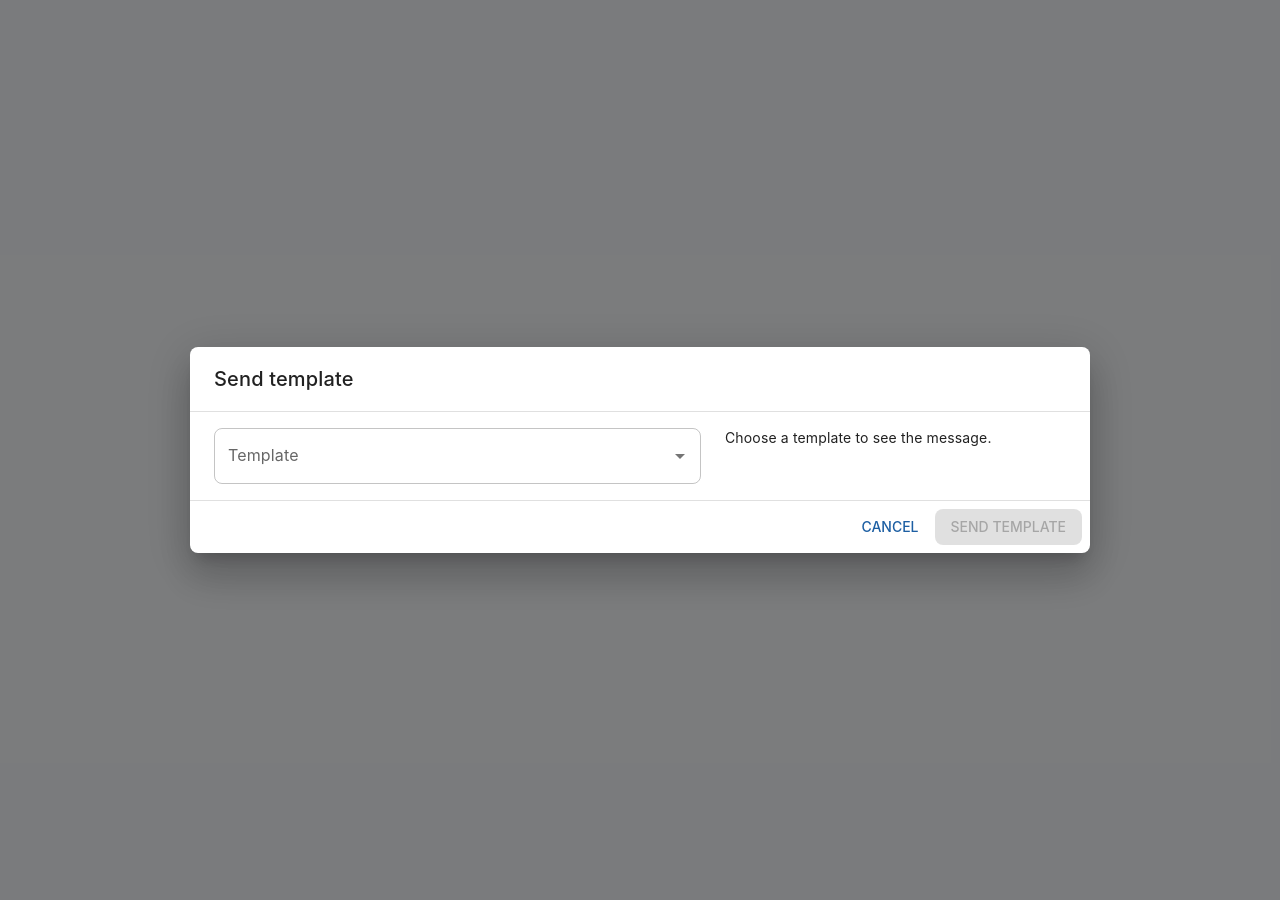
Scenario: Send template dialog › lists approved / flagged templates of this number; sends the exact body per variable source
Click the dropdown labelled "Template".
click(442, 456)  # box [223,437,662,475]
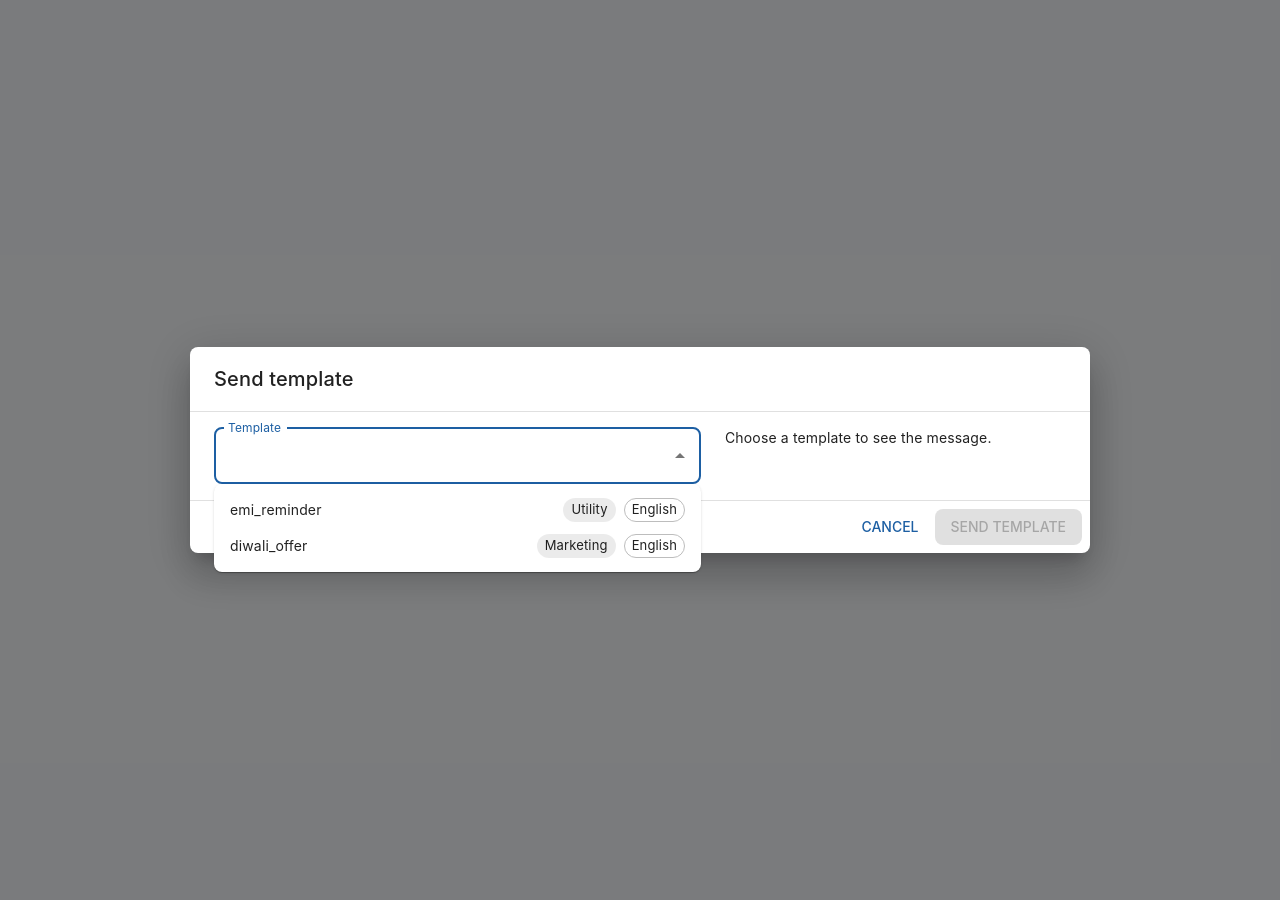
Check: the option "emi_reminder Utility English" is shown
Click the option "emi_reminder Utility English".
click(276, 509)  # box [214,492,701,528]
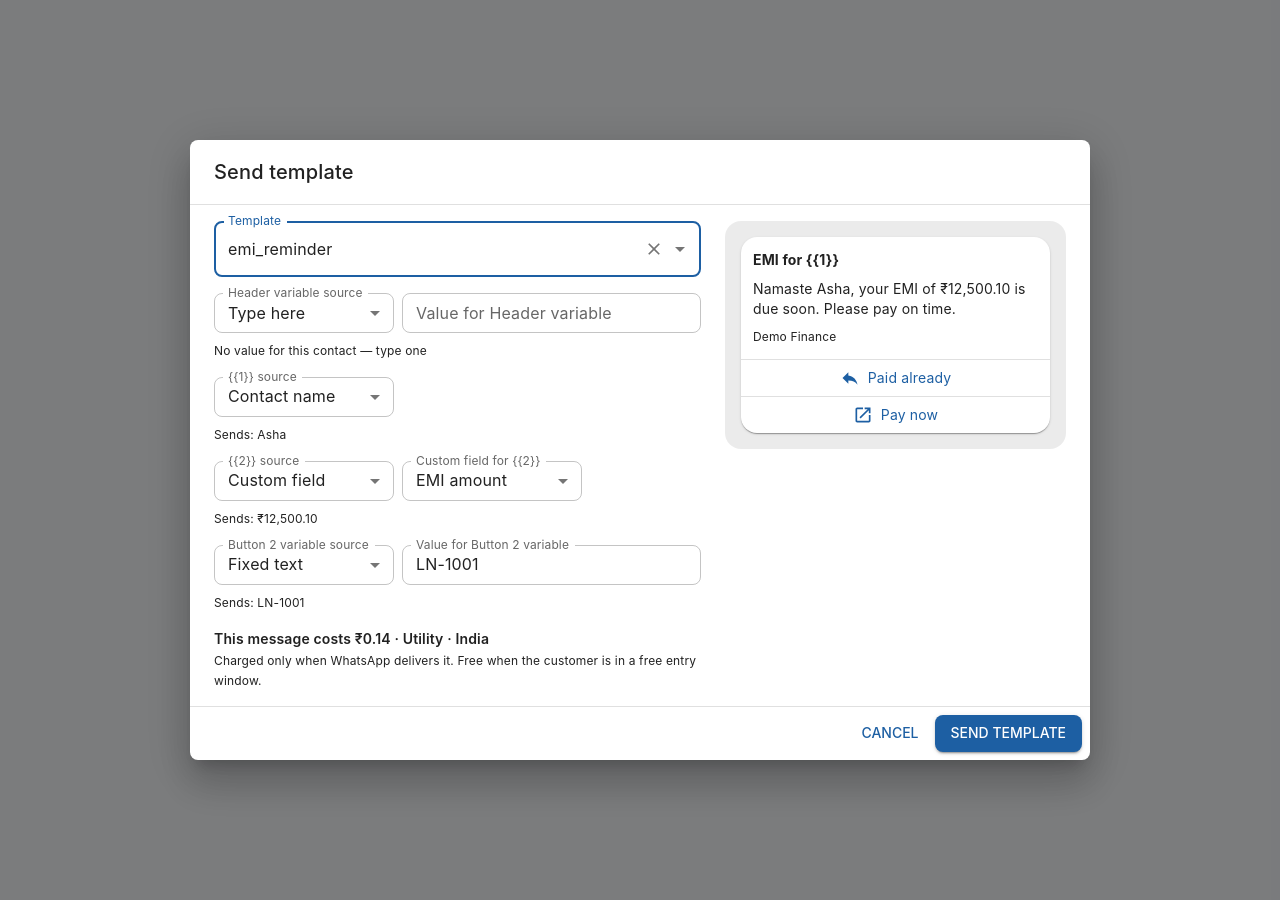
Check: the text "Sends: Asha" is shown, box [214,427,286,442]
Check: the text "Sends: ₹12,500.10" is shown, box [214,511,318,526]
Check: the text "Sends: LN-1001" is shown, box [214,595,305,610]
the header asks → type it
Type "November" into the field labelled "Value for Header variable".
click(552, 313); type("November")  # box [402,293,701,333]
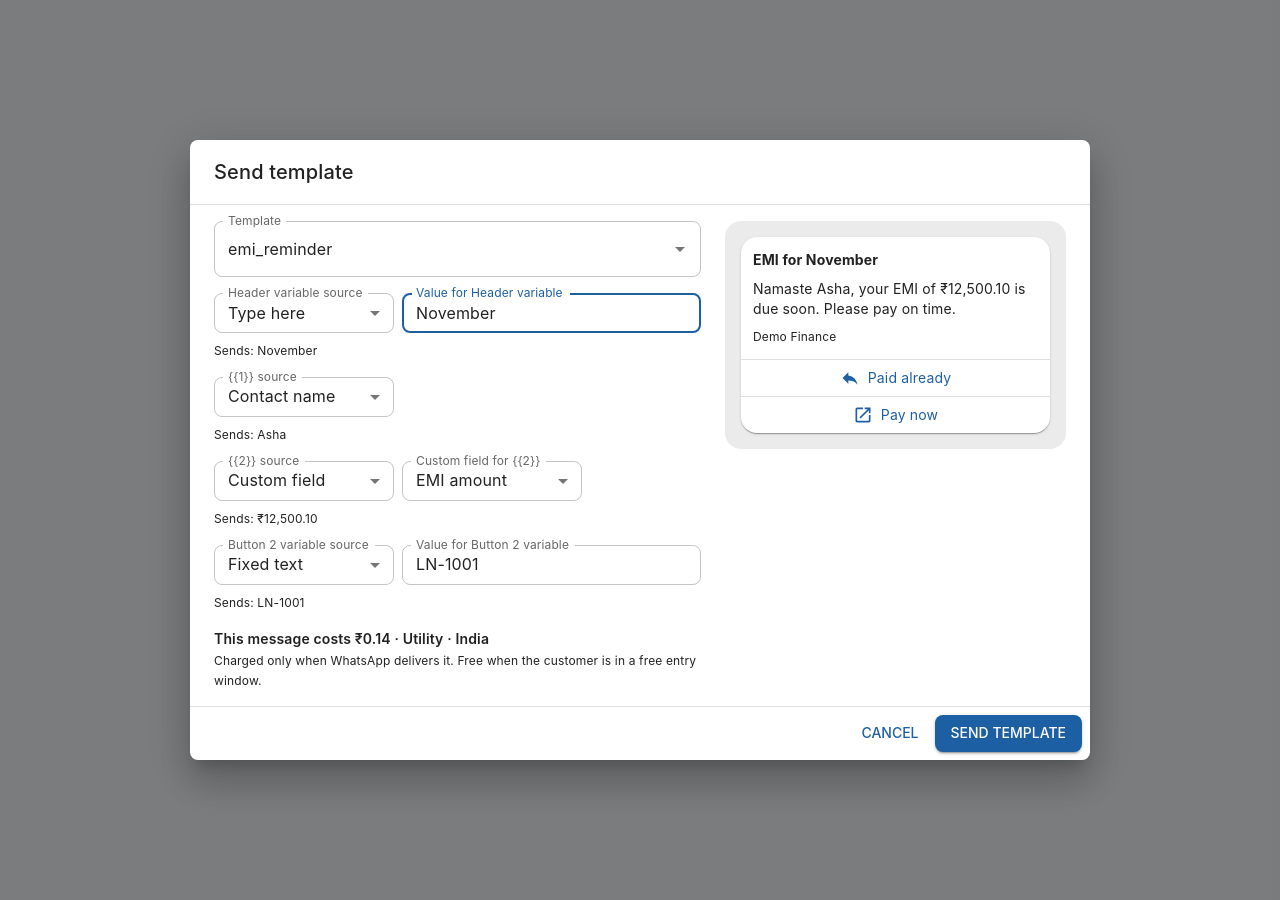
Check: the element named "Message preview" shows "Namaste Asha, your EMI of ₹12,500.10 is due soon.", box [753,280,1030,317]
Check: the element named "Message preview" shows "EMI for November", box [753,251,878,268]
Click the dropdown named "{{1}} source".
click(282, 396)  # box [228,386,336,406]
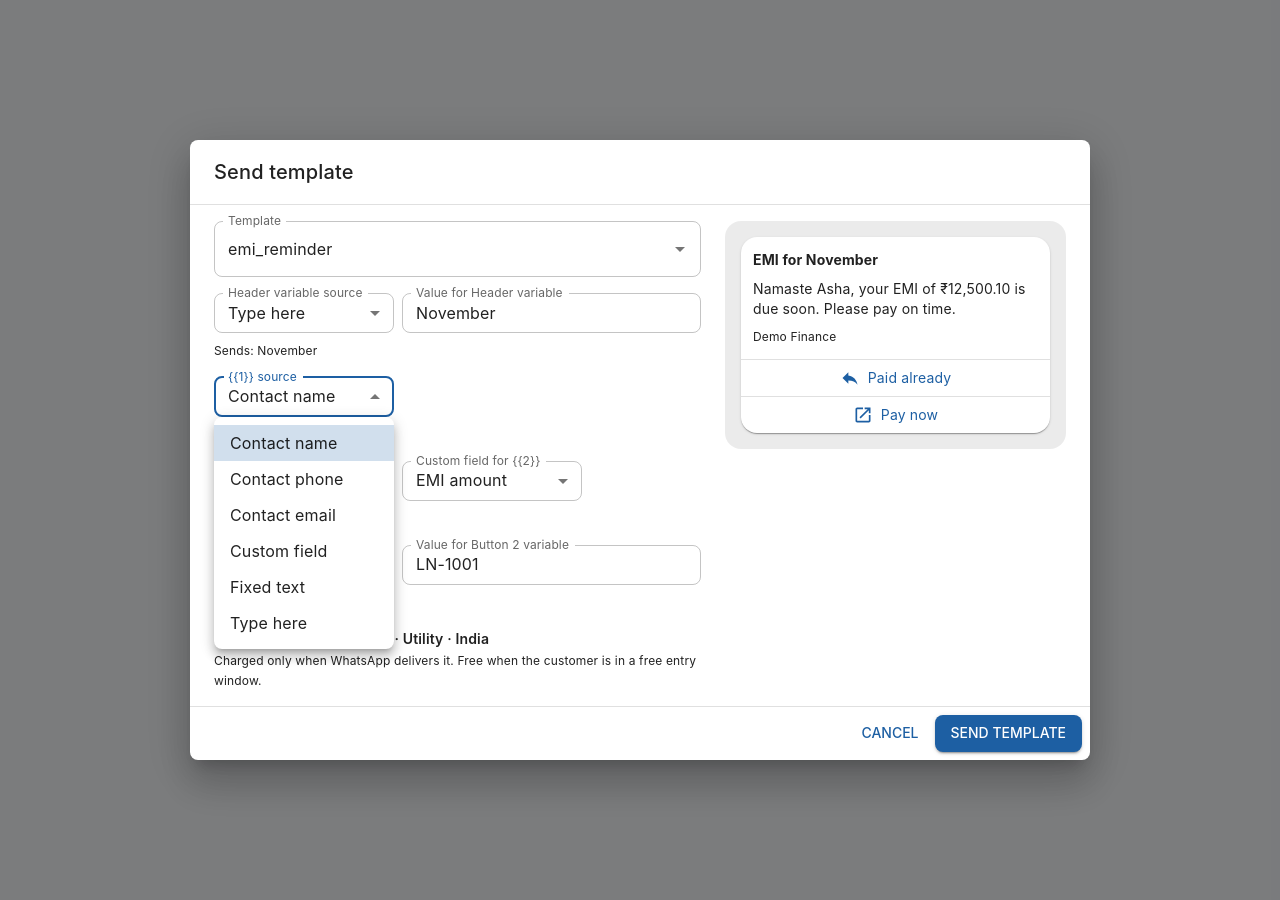
Click the option "Contact phone".
click(287, 479)  # box [230,469,344,489]
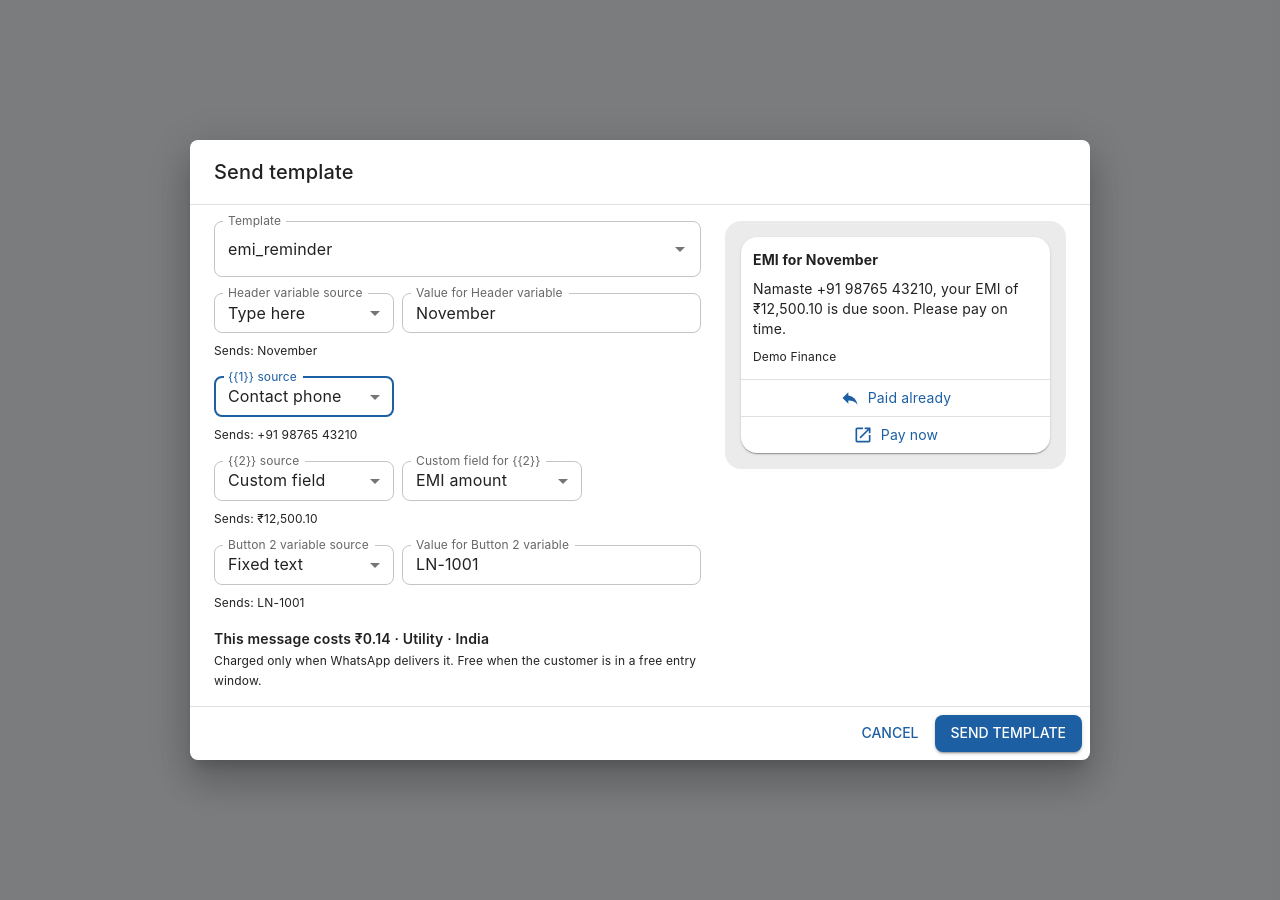
Check: the element labelled "cost" shows "This message costs ₹0.14 · Utility · India", box [214,630,489,647]
Check: the element labelled "cost" shows "Charged only when WhatsApp delivers it.", box [214,653,454,668]
Check: the element named "Message preview" shows "Namaste +91 98765 43210", box [753,280,1023,337]
Click the button "Send template".
click(1008, 734)  # box [934,716,1082,752]
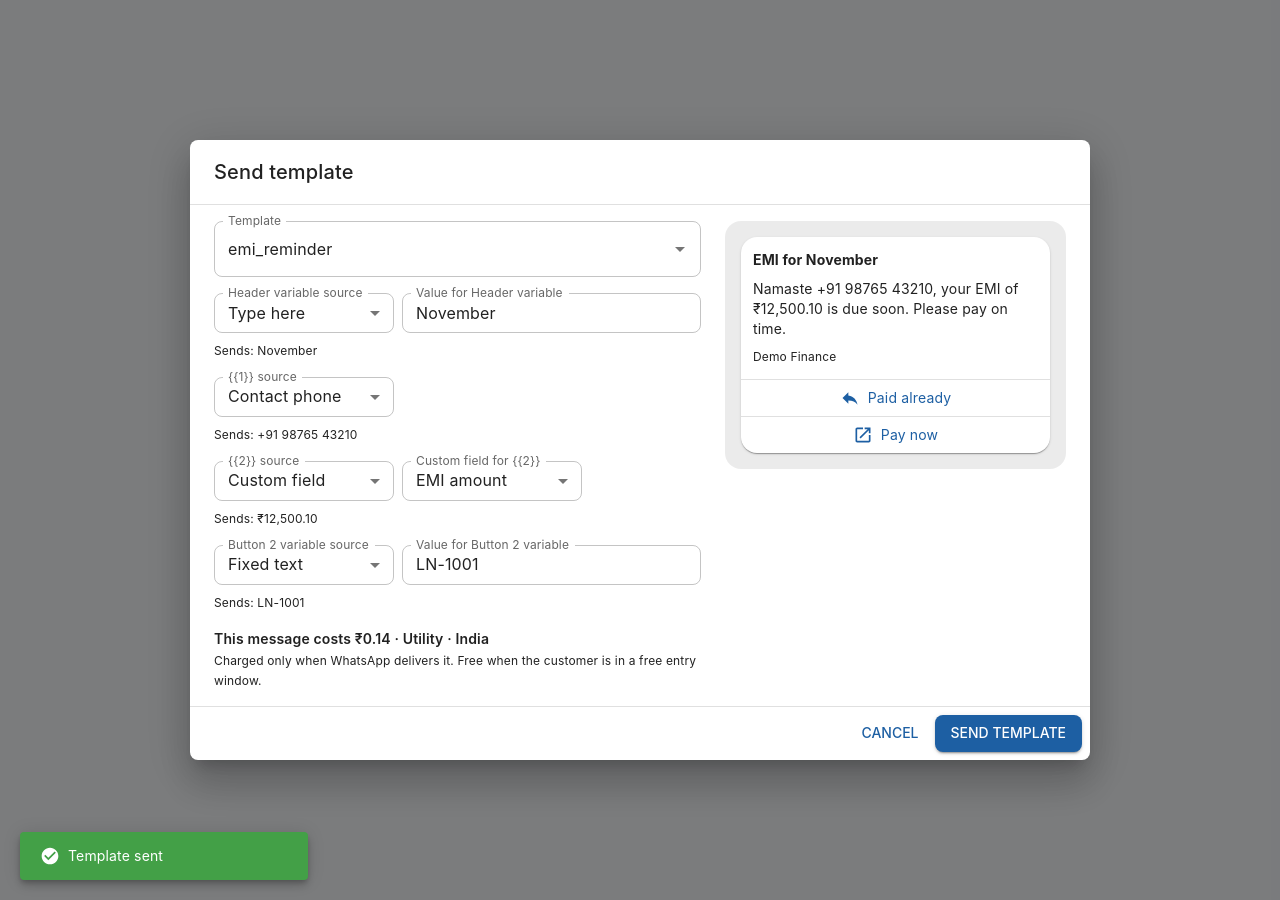
Check: the text "Template sent" is shown, box [40,846,163,866]
